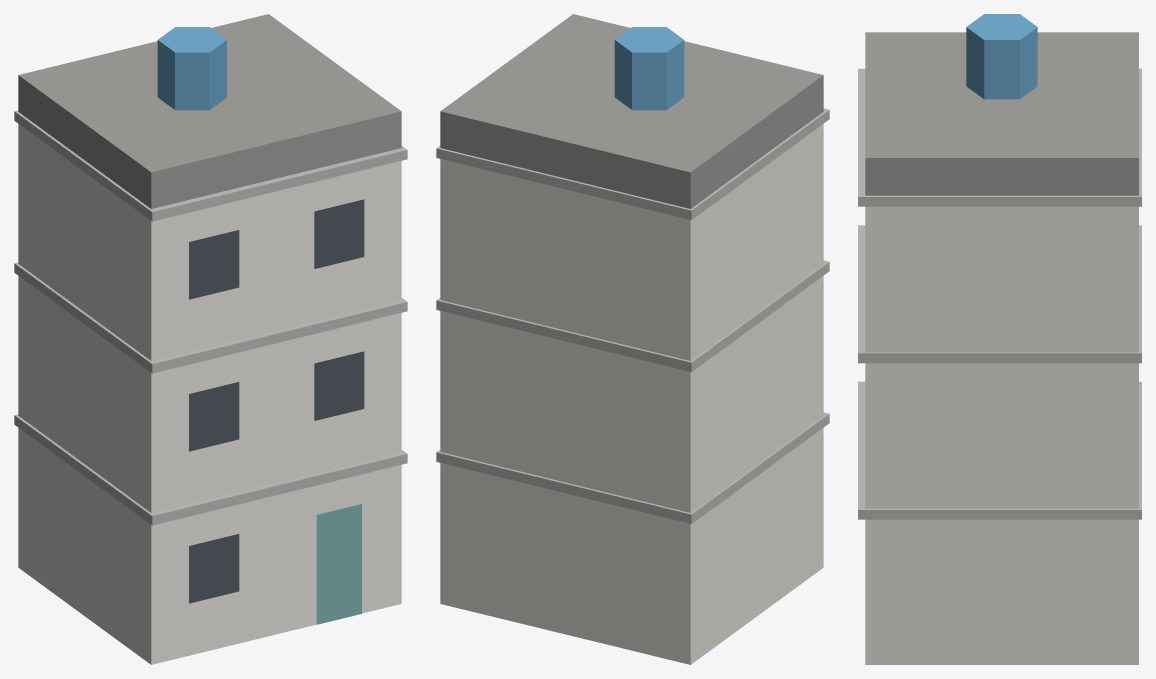
The picture shows the model from 3 angles, left to right: view 1: azimuth 30°, elevation 25°; view 2: azimuth 150°, elevation 25°; view 3: azimuth 270°, elevation 25°; orthographic projection. The views are drawn at different scales.
Visible parts, largest first — view 1: fv_h02.lod1; view 2: fv_h02.lod1; view 3: fv_h02.lod1.
Part boxes in pixels (left/top/right/bottom): fv_h02.lod1: left=14, top=14, right=407, bottom=664; fv_h02.lod1: left=436, top=14, right=829, bottom=664; fv_h02.lod1: left=858, top=14, right=1141, bottom=664.
Size of the model in its own units: 5.1 by 10.5 by 4.77.
